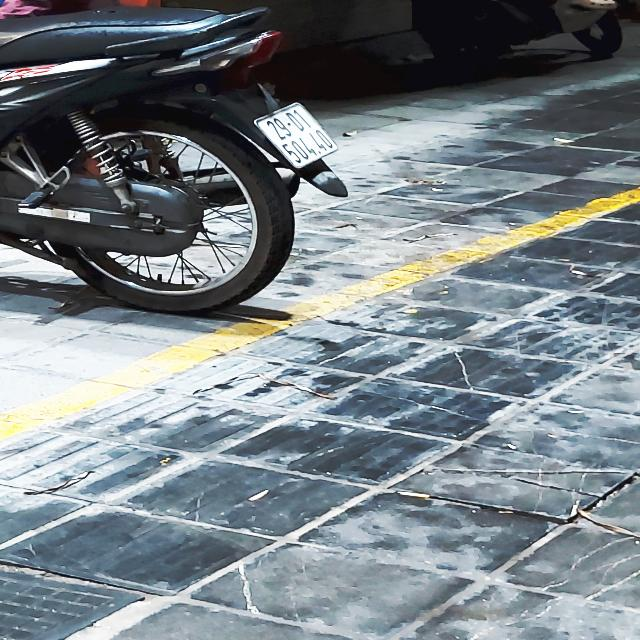license_plate: (255, 102, 342, 169)
